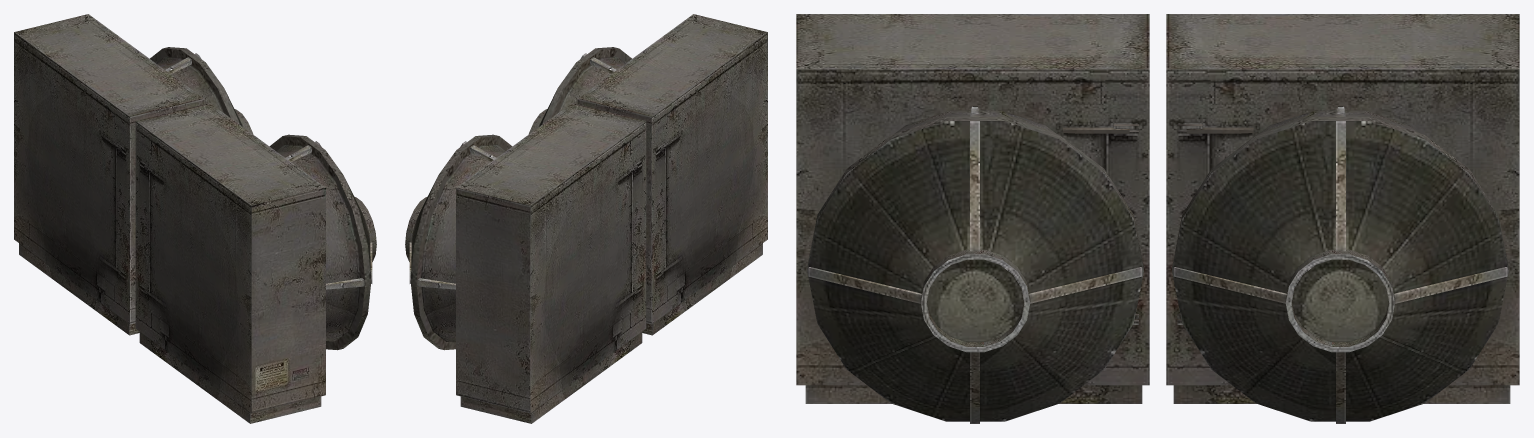
File: substation_transformer01b.glb
3 views of the same model, side by side, from view 1: azimuth 30°, elevation 25°; view 2: azimuth 150°, elevation 25°; view 3: azimuth 270°, elevation 25° (orthographic). The views are drawn at different scales.
Parts seen in each view (by area): view 1: 0_substation_transformer01b; view 2: 0_substation_transformer01b; view 3: 0_substation_transformer01b.
Part boxes in pixels (x1,y1,x2,y2): 0_substation_transformer01b: (14, 14, 376, 423); 0_substation_transformer01b: (405, 14, 767, 423); 0_substation_transformer01b: (796, 14, 1519, 423).
Bounding box in the file's own units: 1.82 × 2.31 × 4.51.
1 material, 1 textured.
